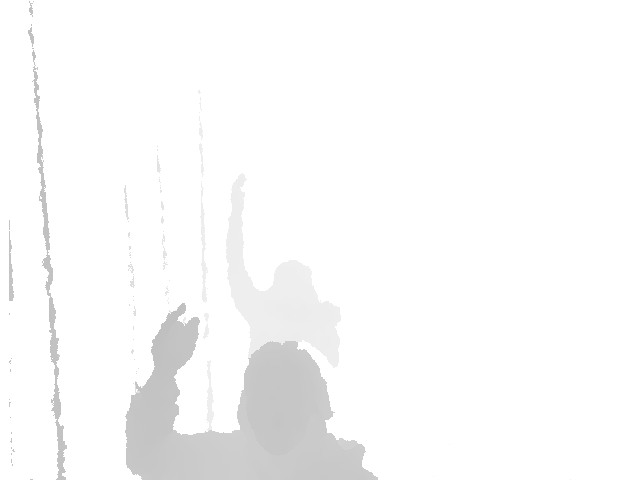hand: (145, 301, 202, 374), (227, 170, 251, 214)
head: (234, 341, 332, 450), (269, 260, 316, 298)
person: (121, 297, 382, 479), (209, 166, 344, 370)
